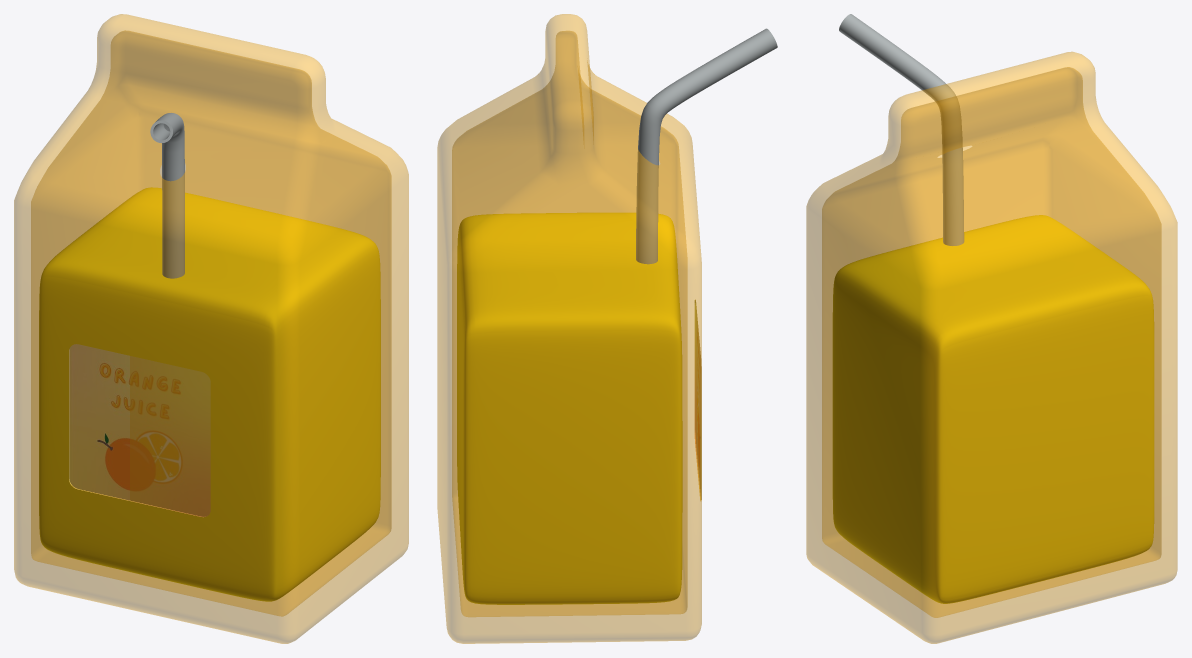
Rendered from food_juice.glb.
3 renders of one model, left to right at view 1: azimuth 30°, elevation 25°; view 2: azimuth 150°, elevation 25°; view 3: azimuth 270°, elevation 25°, orthographic. The views are drawn at different scales.
Visible parts, largest first — view 1: food_juice; view 2: food_juice; view 3: food_juice.
Part boxes in pixels (left/top/right/bottom): food_juice: left=14, top=14, right=408, bottom=643; food_juice: left=437, top=14, right=777, bottom=643; food_juice: left=806, top=14, right=1177, bottom=643.
Size of the model in its own units: 63.72 by 100 by 67.03.
Materials: 4 (1 with a texture image).
